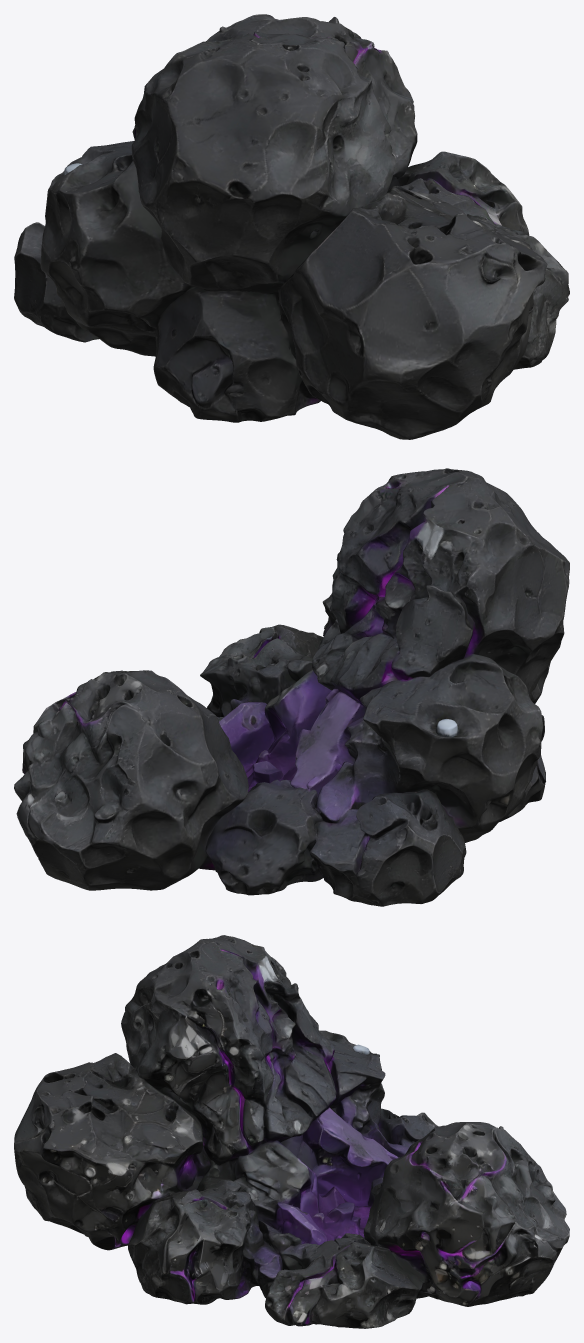
The model's file is Tripo_H31_Original.glb.
3 views of the same model, one above another, from view 1: azimuth 30°, elevation 25°; view 2: azimuth 150°, elevation 25°; view 3: azimuth 270°, elevation 25° (orthographic). The views are drawn at different scales.
Parts seen in each view (by area): view 1: tripo_node_3800e44b-2718-454d-b904-dbe56a842c33; view 2: tripo_node_3800e44b-2718-454d-b904-dbe56a842c33; view 3: tripo_node_3800e44b-2718-454d-b904-dbe56a842c33.
Boxes of the visible parts, left/top/right/bottom form: tripo_node_3800e44b-2718-454d-b904-dbe56a842c33: left=14, top=14, right=569, bottom=439; tripo_node_3800e44b-2718-454d-b904-dbe56a842c33: left=14, top=468, right=569, bottom=906; tripo_node_3800e44b-2718-454d-b904-dbe56a842c33: left=14, top=935, right=569, bottom=1328.
Bounding box in the file's own units: 0.7535 × 0.5207 × 1.
Materials: 1 (1 with a texture image).
